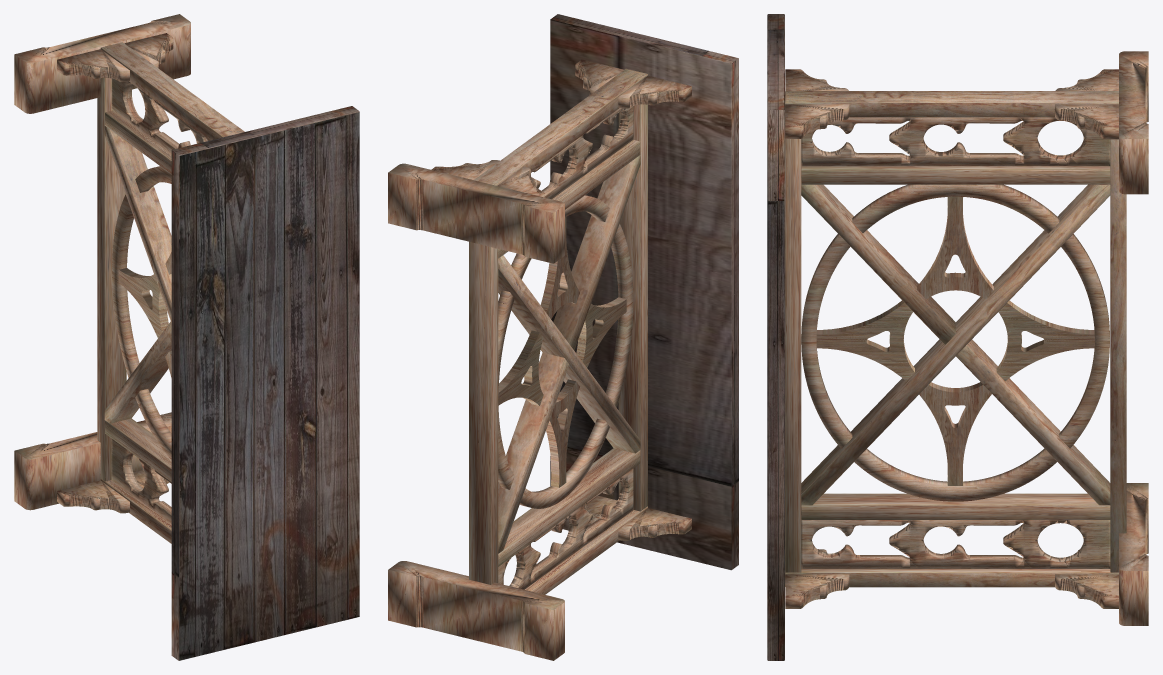
File: Table Retro Console N120225.obj
The picture shows the model from 3 angles, left to right: view 1: azimuth 30°, elevation 25°; view 2: azimuth 150°, elevation 25°; view 3: azimuth 270°, elevation 25°; orthographic projection. The views are drawn at different scales.
Parts seen in each view (by area): view 1: ChamferBox0011, ChamferBox0031, Line0011, Line0101, Box0051, ChamferBox0051, Circle0151, Box0081, ChamferBox0061, Circle015, Cylinder0131, Cylinder0171 (+13 smaller); view 2: ChamferBox0012, Line010, Line001, ChamferBox003, ChamferBox0041, Cylinder0161, ChamferBox0011, Box0051, Box0071, ChamferBox0051, Circle0151, Box0081 (+20 smaller); view 3: Circle0151, Cylinder0161, ChamferBox0011, Box0051, Cylinder0171, Cylinder0131, ChamferBox0061, ChamferBox0051, ChamferBox0041, ChamferBox0031, ChamferBox0021, Box0081 (+22 smaller).
Part boxes in pixels (<box>): ChamferBox0011: <box>171,106,359,660</box>; ChamferBox0031: <box>97,78,126,481</box>; Line0011: <box>15,14,190,113</box>; Line0101: <box>15,412,171,509</box>; Box0051: <box>104,126,171,322</box>; ChamferBox0051: <box>100,42,244,140</box>; Circle0151: <box>112,167,171,459</box>; Box0081: <box>104,321,171,423</box>; ChamferBox0061: <box>105,418,171,481</box>; Circle015: <box>119,166,171,445</box>; Cylinder0131: <box>111,78,209,153</box>; Cylinder0171: <box>111,438,171,523</box>; ChamferBox0012: <box>550,20,730,569</box>; Line010: <box>388,570,564,660</box>; Line001: <box>388,172,564,263</box>; ChamferBox003: <box>469,241,491,584</box>; ChamferBox0041: <box>618,104,647,511</box>; Cylinder0161: <box>498,217,626,487</box>; ChamferBox0011: <box>551,14,738,569</box>; Box0051: <box>498,255,640,453</box>; Box0071: <box>553,155,640,350</box>; ChamferBox0051: <box>474,68,647,185</box>; Circle0151: <box>498,196,633,508</box>; Box0081: <box>498,353,569,553</box>; Circle0151: <box>801,184,1109,501</box>; Cylinder0161: <box>816,196,1094,485</box>; ChamferBox0011: <box>768,14,784,660</box>; Box0051: <box>801,184,1110,505</box>; Cylinder0171: <box>801,520,1110,568</box>; Cylinder0131: <box>801,117,1110,166</box>; ChamferBox0061: <box>801,493,1109,519</box>; ChamferBox0051: <box>785,91,1118,117</box>; ChamferBox0041: <box>785,139,800,572</box>; ChamferBox0031: <box>1110,139,1126,572</box>; ChamferBox0021: <box>801,166,1109,184</box>; Box0081: <box>956,339,1110,505</box>.
Bounding box in the file's own units: 0.447 × 1.2 × 0.7495.
2 materials, 2 textured.
